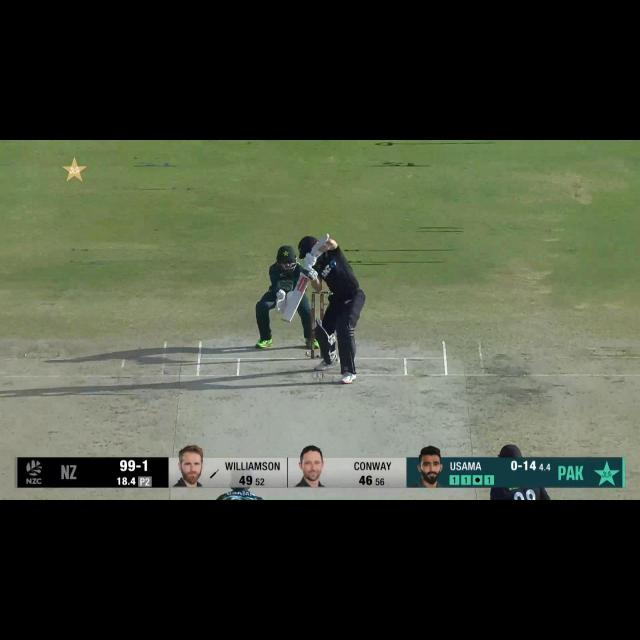bat: (279, 277, 311, 330)
toe: (276, 312, 297, 327)
